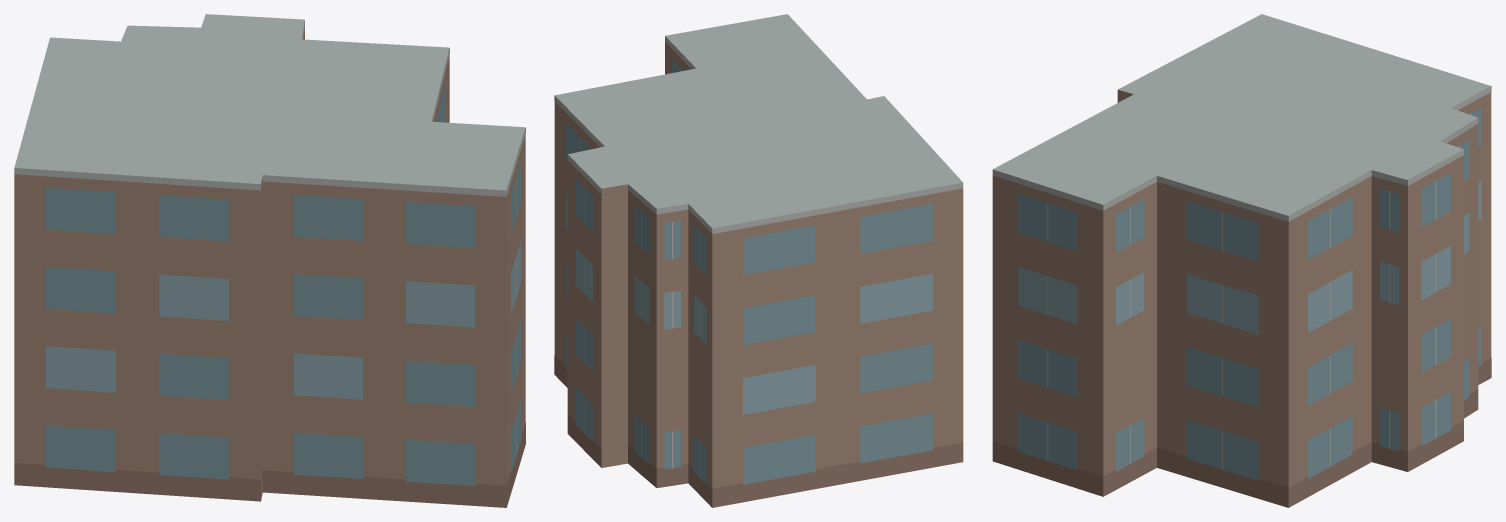
Rendered from survey-upis-32855403.glb.
3 views of the same model, side by side, from view 1: azimuth 30°, elevation 25°; view 2: azimuth 150°, elevation 25°; view 3: azimuth 270°, elevation 25° (orthographic). The views are drawn at different scales.
Parts seen in each view (by area): view 1: survey-upis-32855403.tmp; view 2: survey-upis-32855403.tmp; view 3: survey-upis-32855403.tmp.
Part boxes in pixels (<box>): survey-upis-32855403.tmp: <box>14,14,525,507</box>; survey-upis-32855403.tmp: <box>554,14,963,507</box>; survey-upis-32855403.tmp: <box>992,14,1491,507</box>.
Size of the model in its own units: 17.89 by 12.05 by 18.67.
